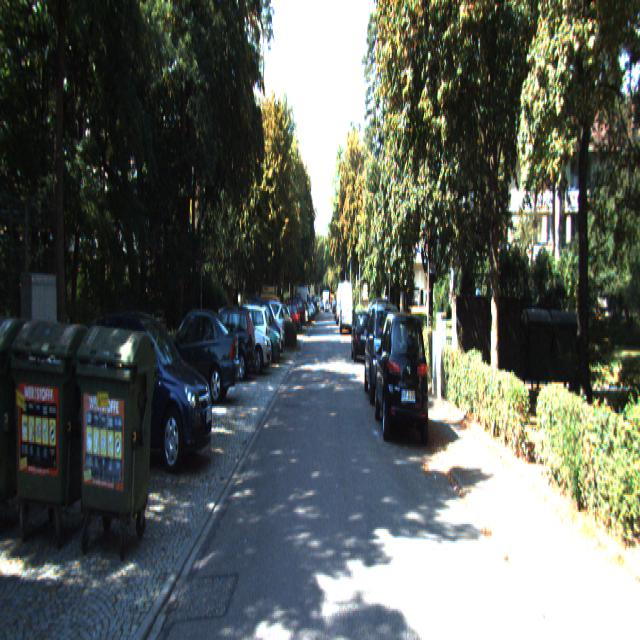Car: (81, 313, 213, 479), (150, 310, 240, 407), (375, 314, 429, 445), (196, 305, 256, 384), (364, 304, 404, 411), (214, 306, 270, 372), (238, 306, 281, 365), (351, 310, 373, 364), (339, 285, 353, 335)
